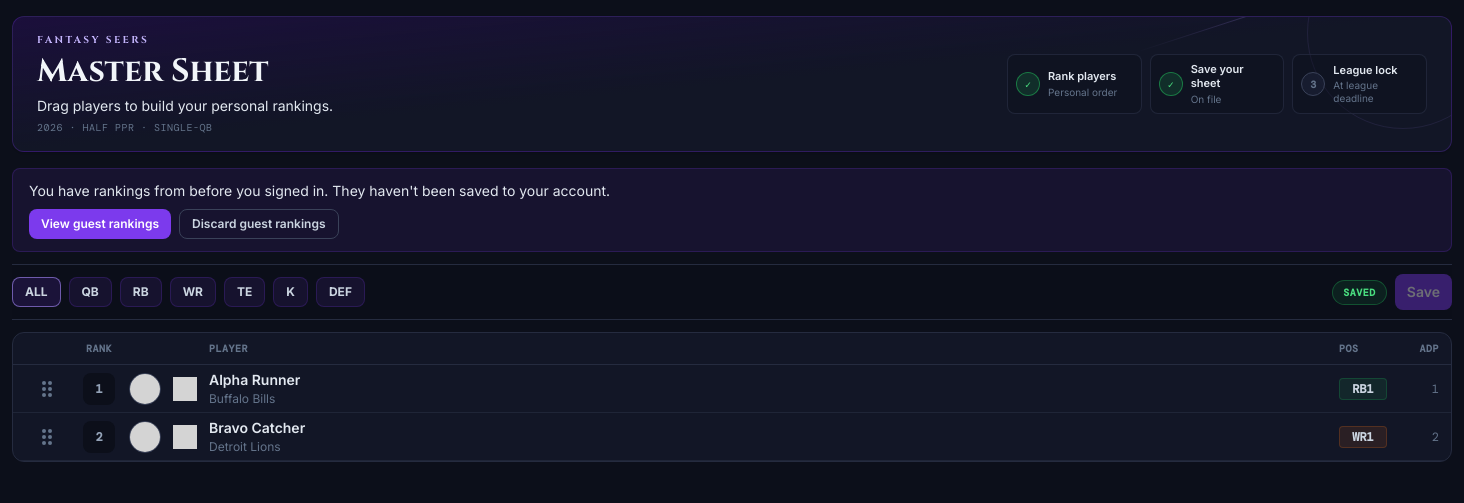
Test: MasterSheetPage › for guests › then signs in › after a header login, shows the account board and offers the guest rankings without saving them
Check: the button named "Move Alpha Runner, currently ranked 1" is shown, box [25, 366, 69, 410]
Click the button "View guest rankings". click: (100, 224)
box: [29, 209, 171, 239]
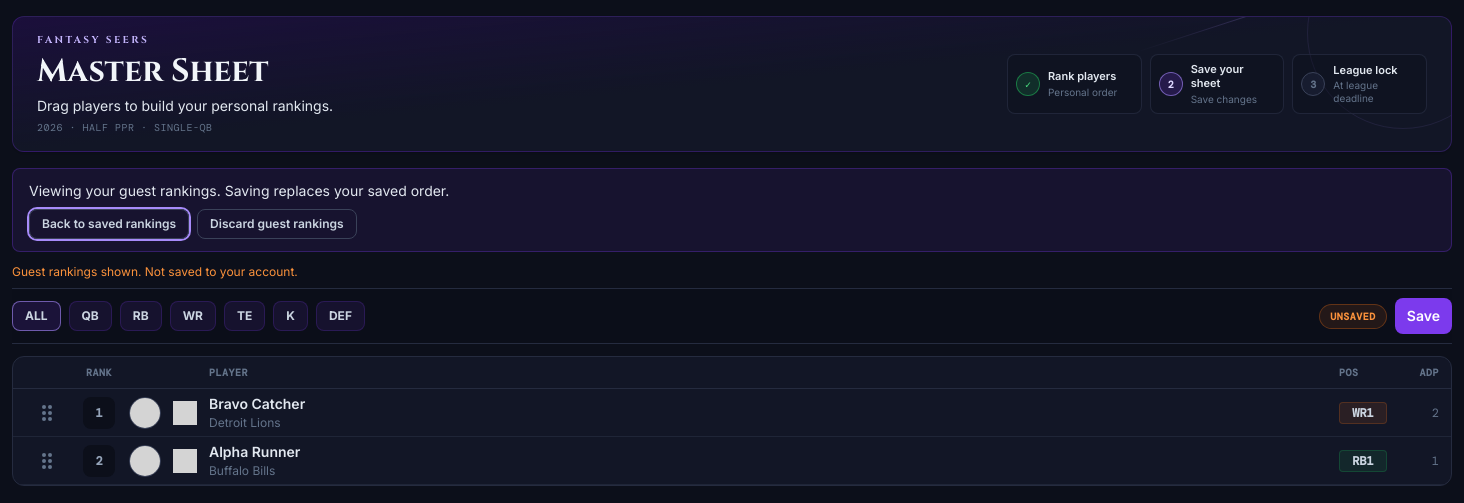
Check: the button named "Move Bravo Catcher, currently ranked 1" is shown, box [25, 390, 69, 434]
Click the button "Back to saved rankings". click: (109, 224)
box: [29, 209, 189, 239]
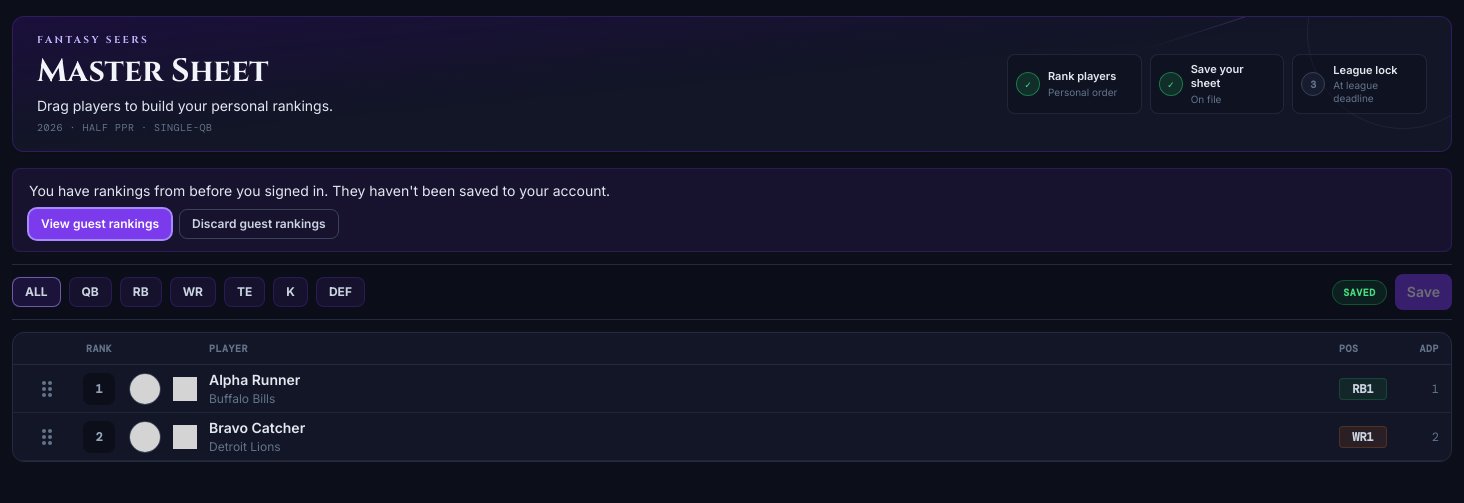
Check: the button named "Move Alpha Runner, currently ranked 1" is shown, box [25, 366, 69, 410]
Click the button "Discard guest rankings". click: (259, 224)
box: [179, 209, 338, 239]
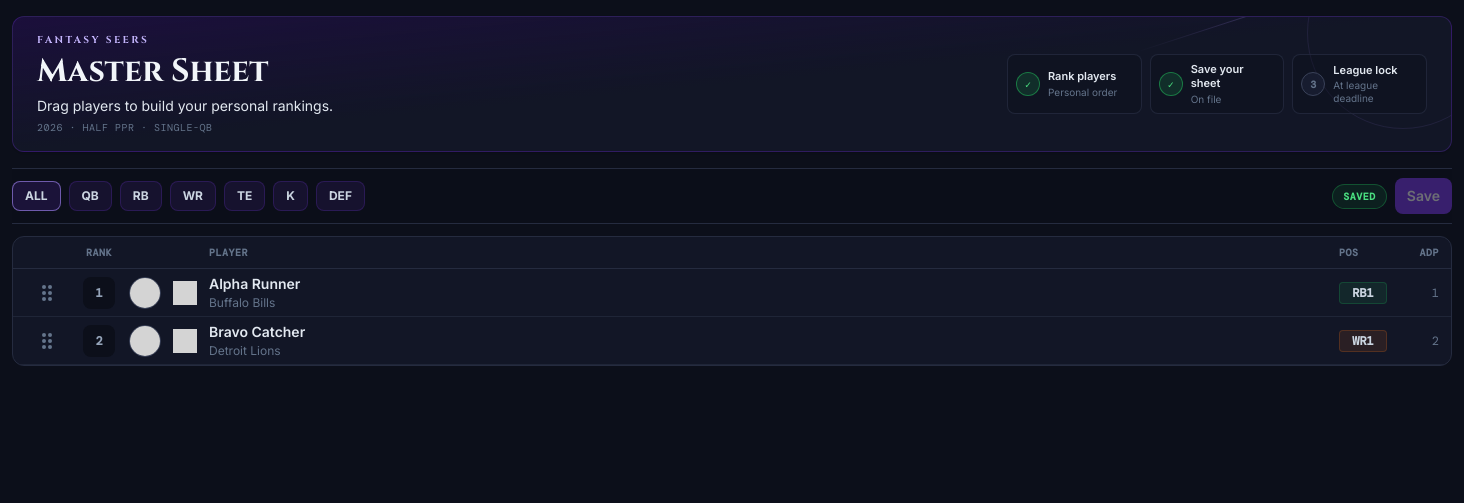
Check: the button "View guest rankings" is gone
